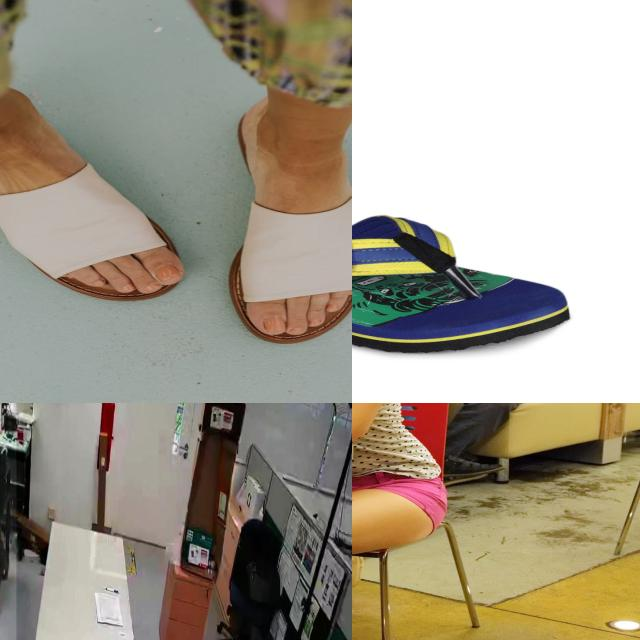Sandals: (0, 103, 189, 303), (352, 212, 572, 356), (230, 96, 352, 346)
